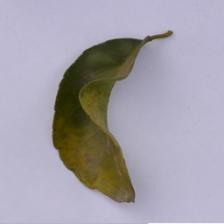greening: (50, 124, 139, 183)
